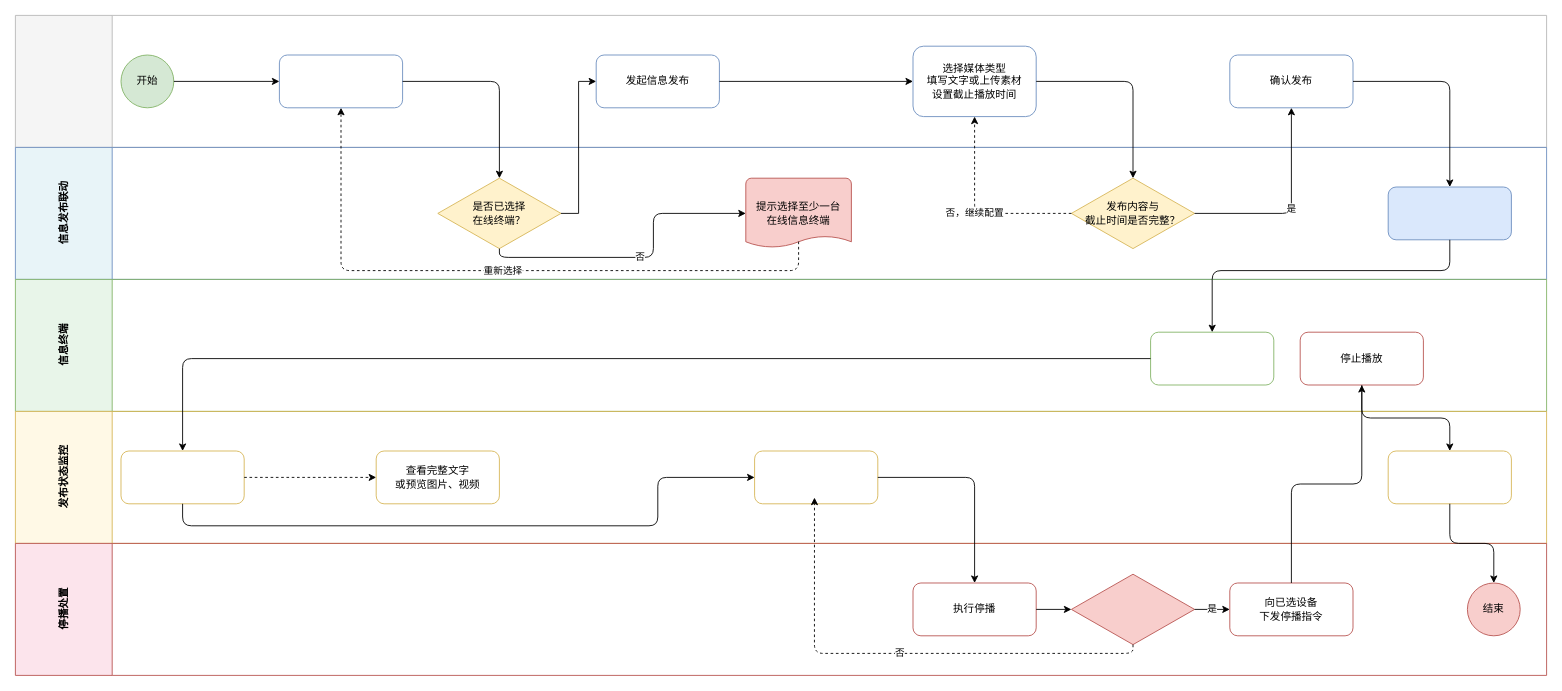
The diagram is 1562 pixels wide and 691 high, and some of its shapes have lost their labels. The box of each missing label's shape, as (x1, y1, x2, y2) in pixels:
值班人员: (15, 15, 1547, 147)
勾选需要停播的 一个或多个任务: (754, 450, 878, 504)
按楼栋选择在线终端 或从地图选择终端: (279, 54, 403, 108)
按每台目标设备 创建独立播放任务: (1387, 186, 1511, 240)
按设备展示活动任务 设备名称、媒介、摘要、截止时间: (120, 450, 244, 504)
接收发布指令 开始播放文字、图片或视频: (1150, 331, 1274, 385)
确认停止已选 发布任务？: (1071, 573, 1195, 645)
移除已停止任务 更新活动任务数量: (1387, 450, 1511, 504)
